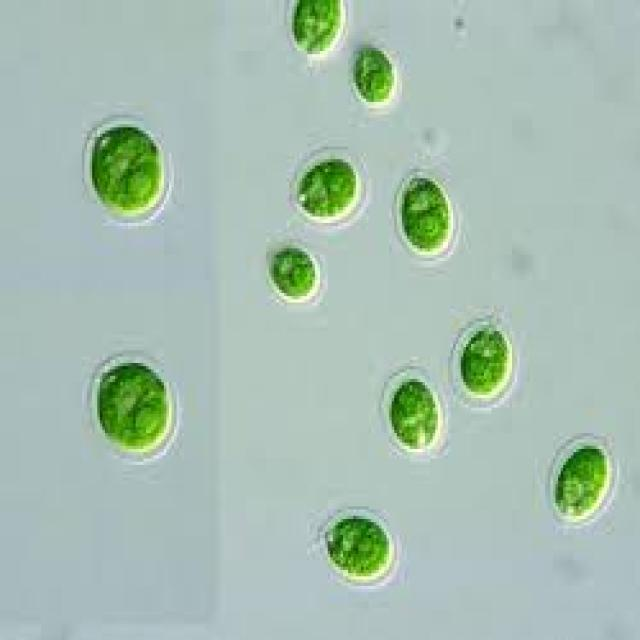Green Algae: (87, 360, 177, 458), (84, 121, 169, 223), (312, 506, 400, 589), (392, 159, 461, 264), (548, 433, 617, 529), (381, 366, 448, 459), (453, 312, 512, 408), (292, 150, 363, 226), (264, 239, 325, 309), (348, 42, 399, 112), (282, 3, 346, 57)
